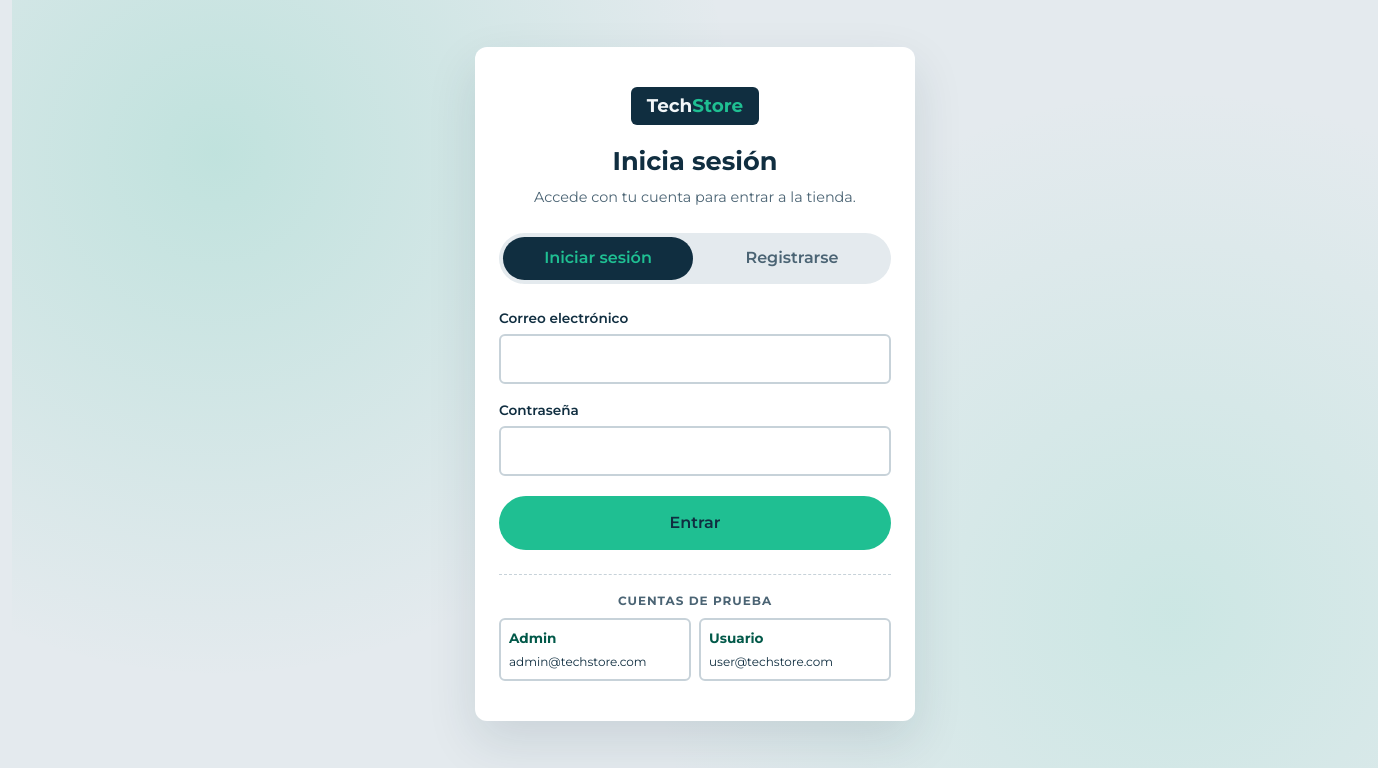
it: login obligatorio › después del login regresa a la página pedida
Expected: the heading "Inicia sesión" is shown, [612,145,778,176]
Click the button with aria-label "cuenta de prueba Admin" at (595, 649), box [499,618,691,681]
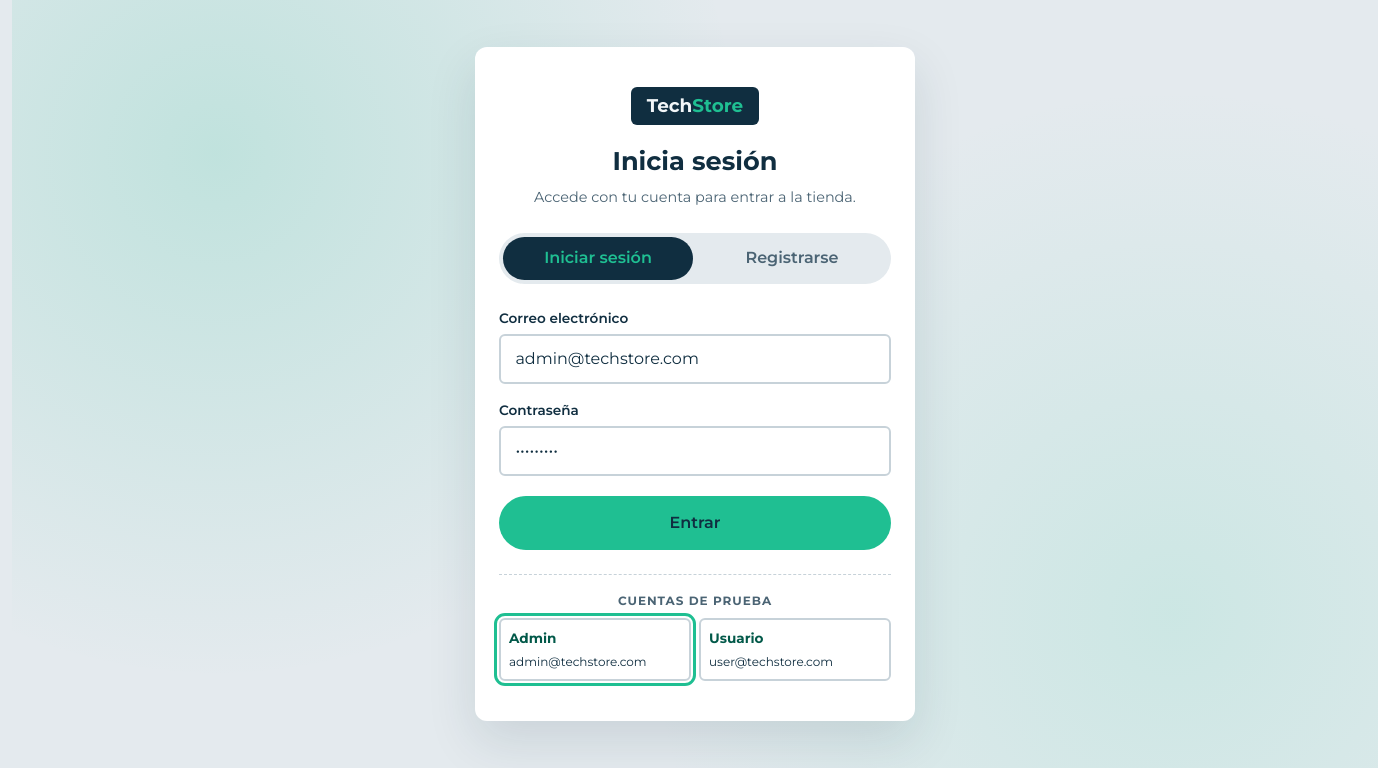
Click the button "Entrar" at (695, 523), box [499,496,891,550]
(page scrolled)
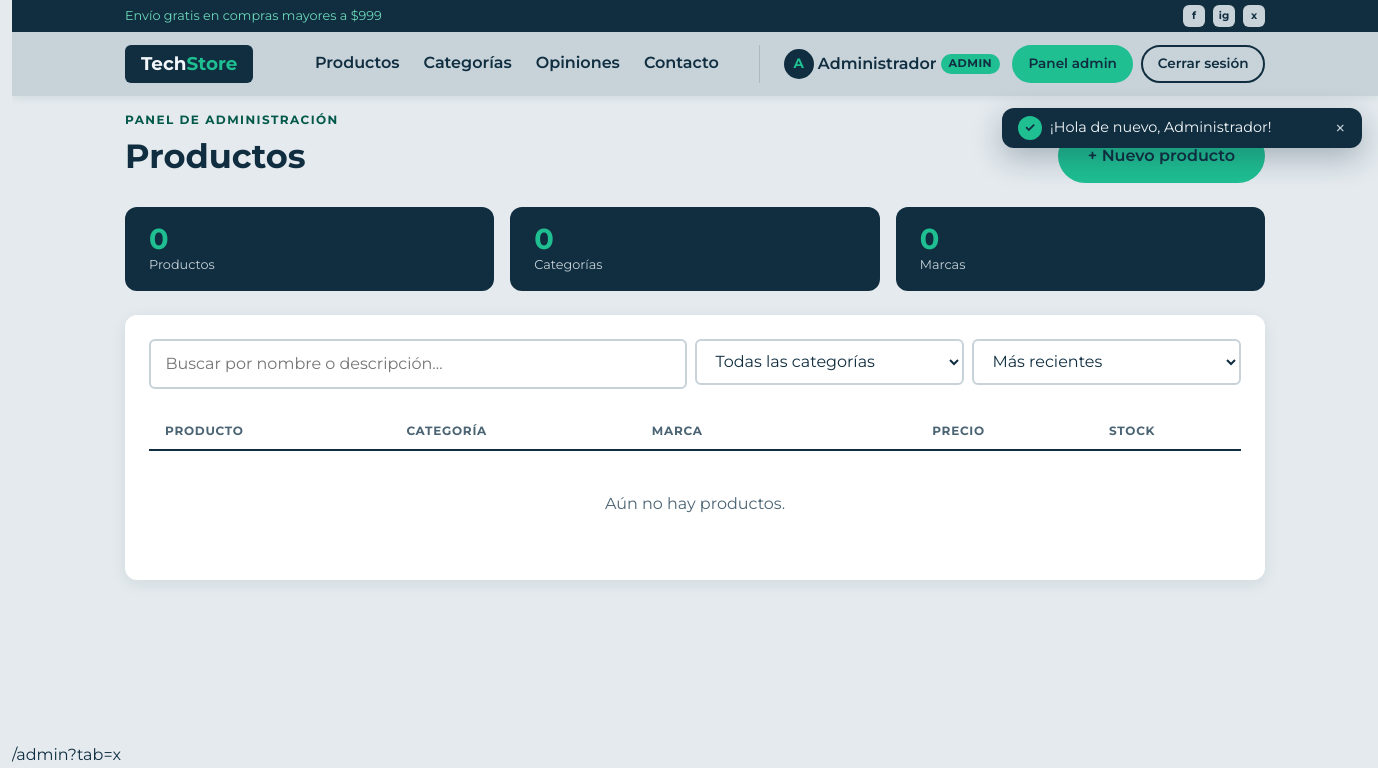
Expected: the text with test id "location" reads "/admin?tab=x", [12,745,121,764]
